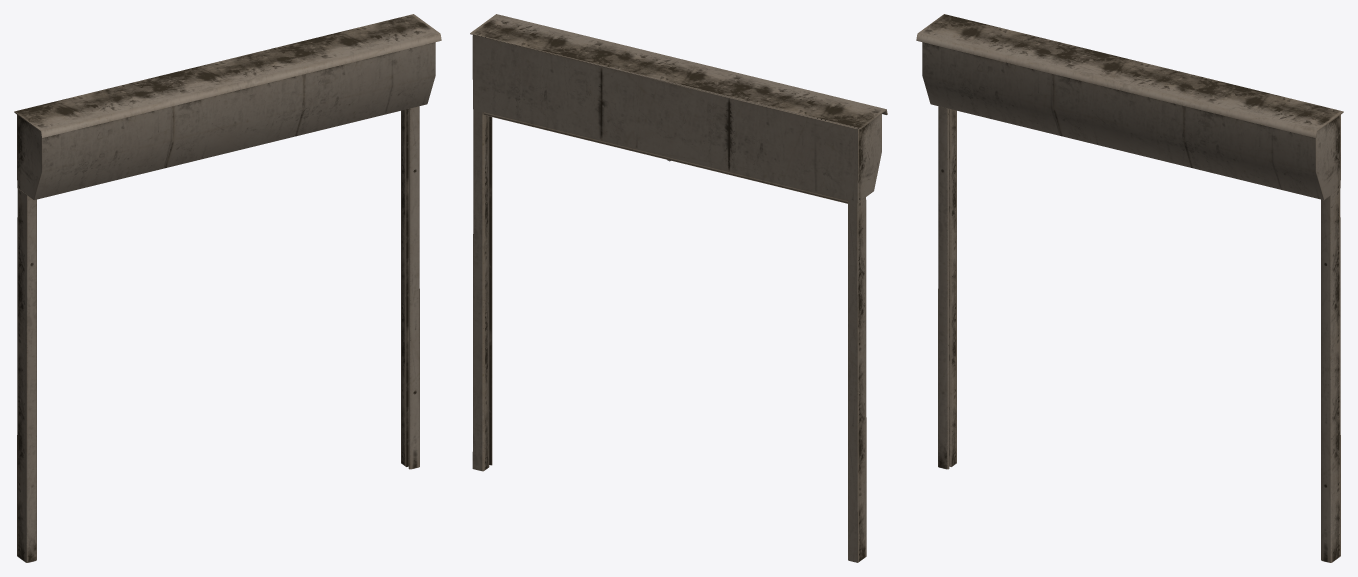
File: Shutter_A.fbx
The picture shows the model from 3 angles, left to right: view 1: azimuth 30°, elevation 25°; view 2: azimuth 150°, elevation 25°; view 3: azimuth 330°, elevation 25°; orthographic projection. The views are drawn at different scales.
Visible parts, largest first — view 1: Shutter_A; view 2: Shutter_A; view 3: Shutter_A.
Boxes of the visible parts, x1,y1,x2,y2 form: Shutter_A: (14, 14, 441, 562); Shutter_A: (470, 14, 887, 562); Shutter_A: (916, 14, 1343, 562).
Bounding box in the file's own units: 241 × 257 × 29.21.
1 material, 1 textured.
